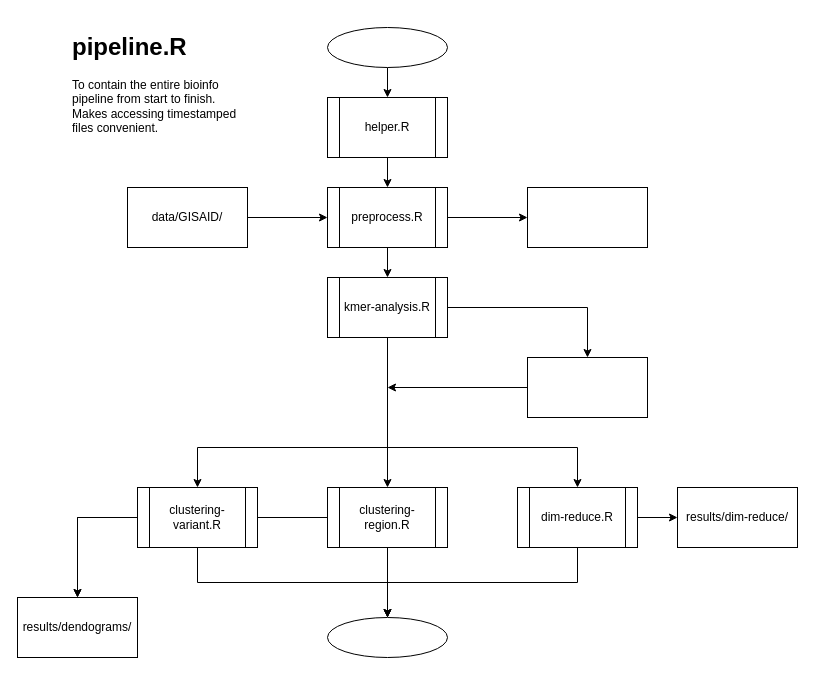
This 815x675 diagram has some shape labels left out. Each missing label, with the box of its shape:
data/interm/: (526, 186, 648, 248)
data/kmers/: (526, 356, 648, 418)
END: (326, 616, 448, 658)
START: (326, 26, 448, 68)
